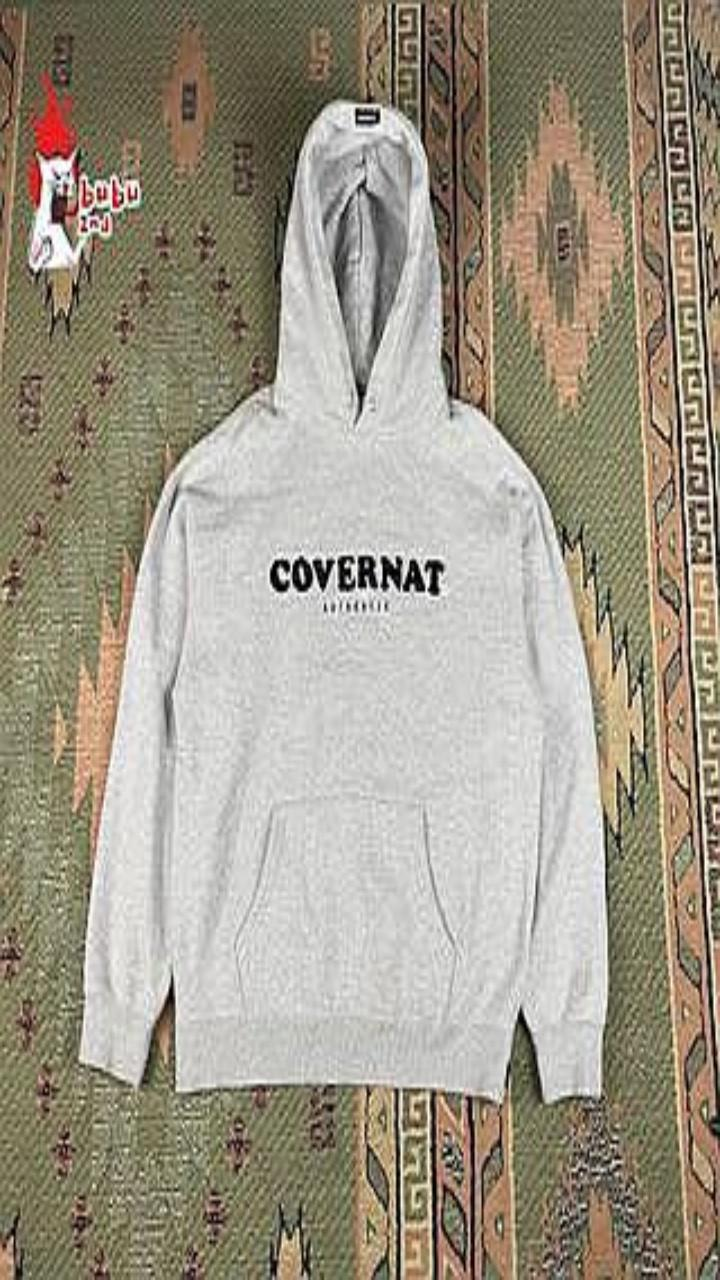Hoodie: (79, 99, 606, 1101)
